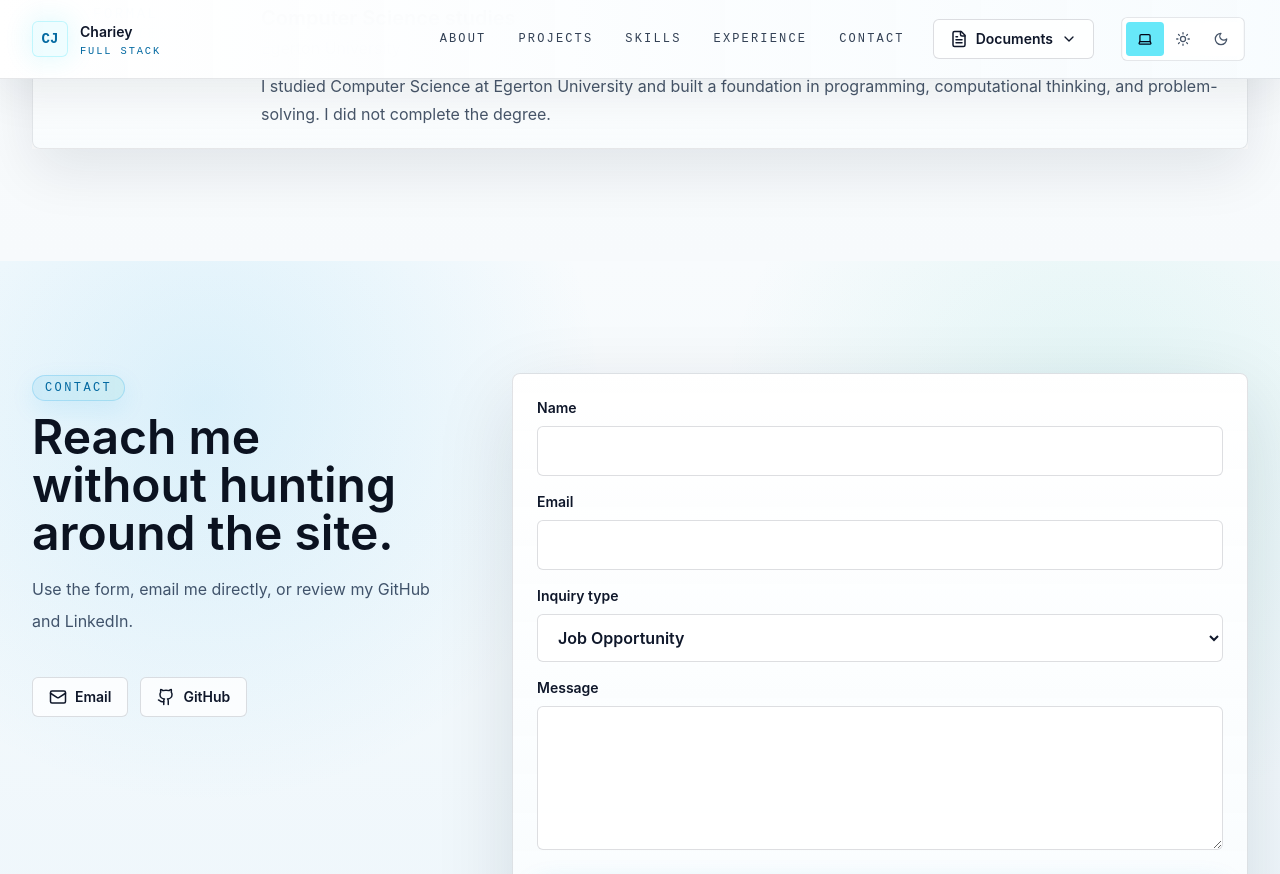
portfolio app › shows API error feedback after a failed contact submission
The image size is (1280, 874).
(page scrolled)
In the field labelled "Name": (880, 450) 537,426 -> 1223,476, type "Recruiter"
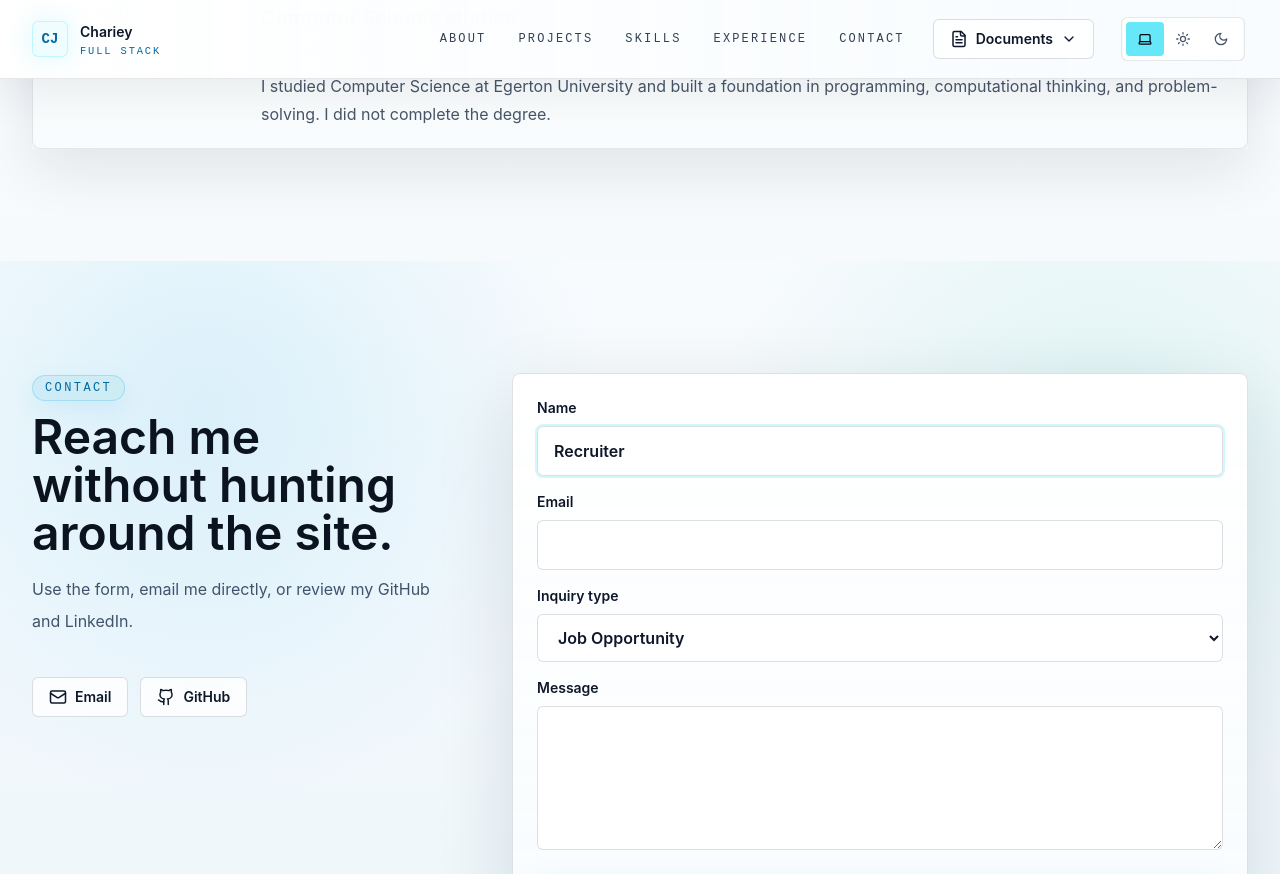
In the field labelled "Email": (880, 544) 537,520 -> 1223,570, type "recruiter@example.com"
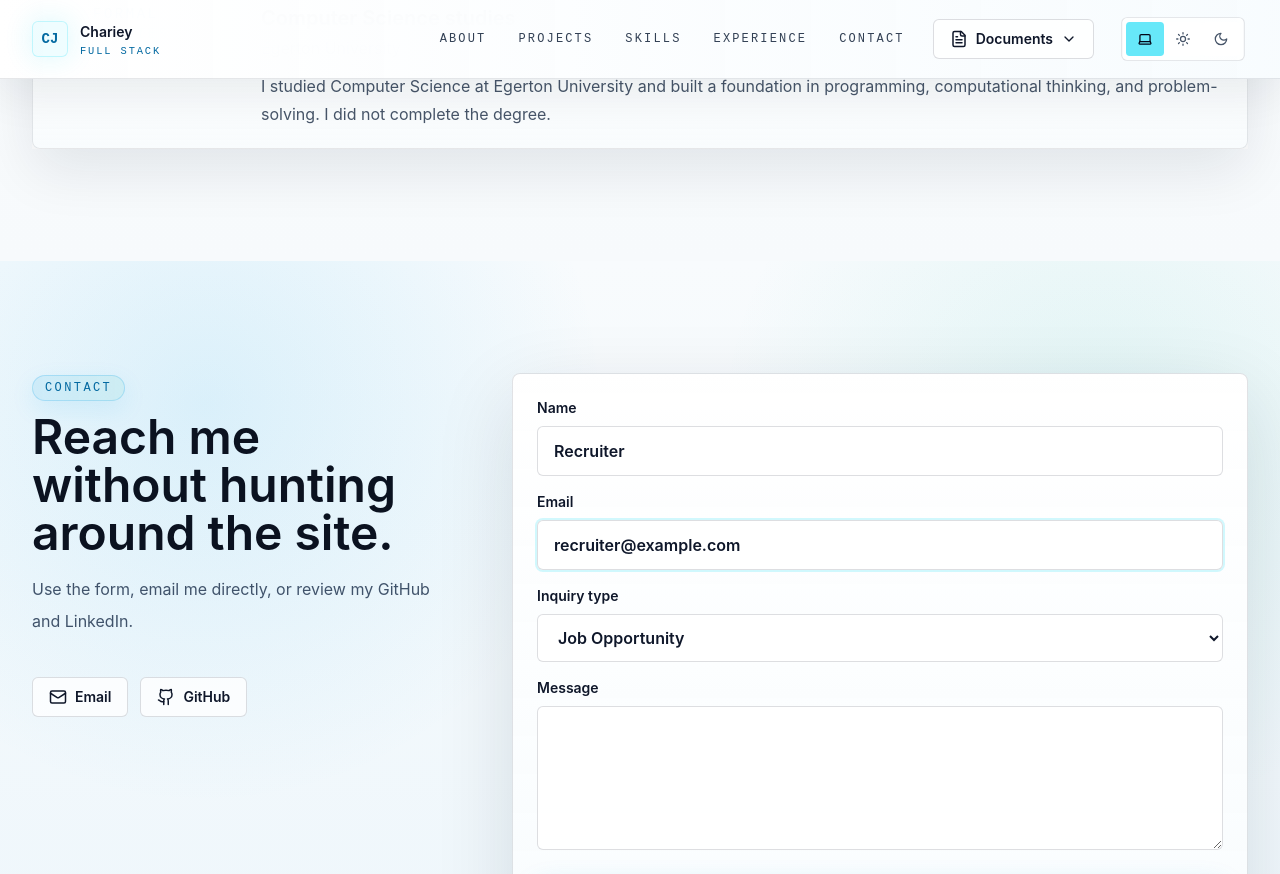
In the text box labelled "Message": (880, 778) 537,706 -> 1223,850, type "I would like to discuss a role with you."
(page scrolled)
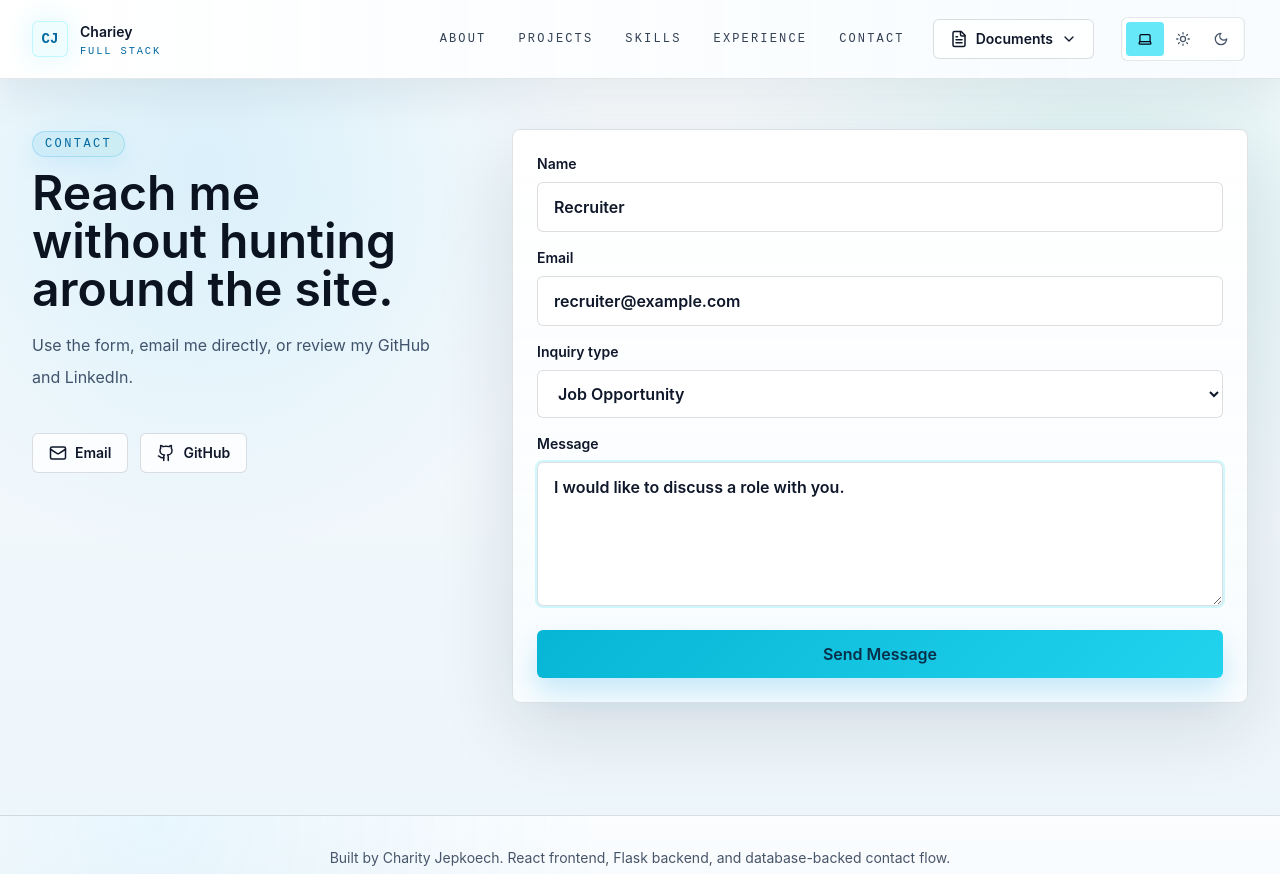
Click the button "Send Message": (880, 654) 537,630 -> 1223,678
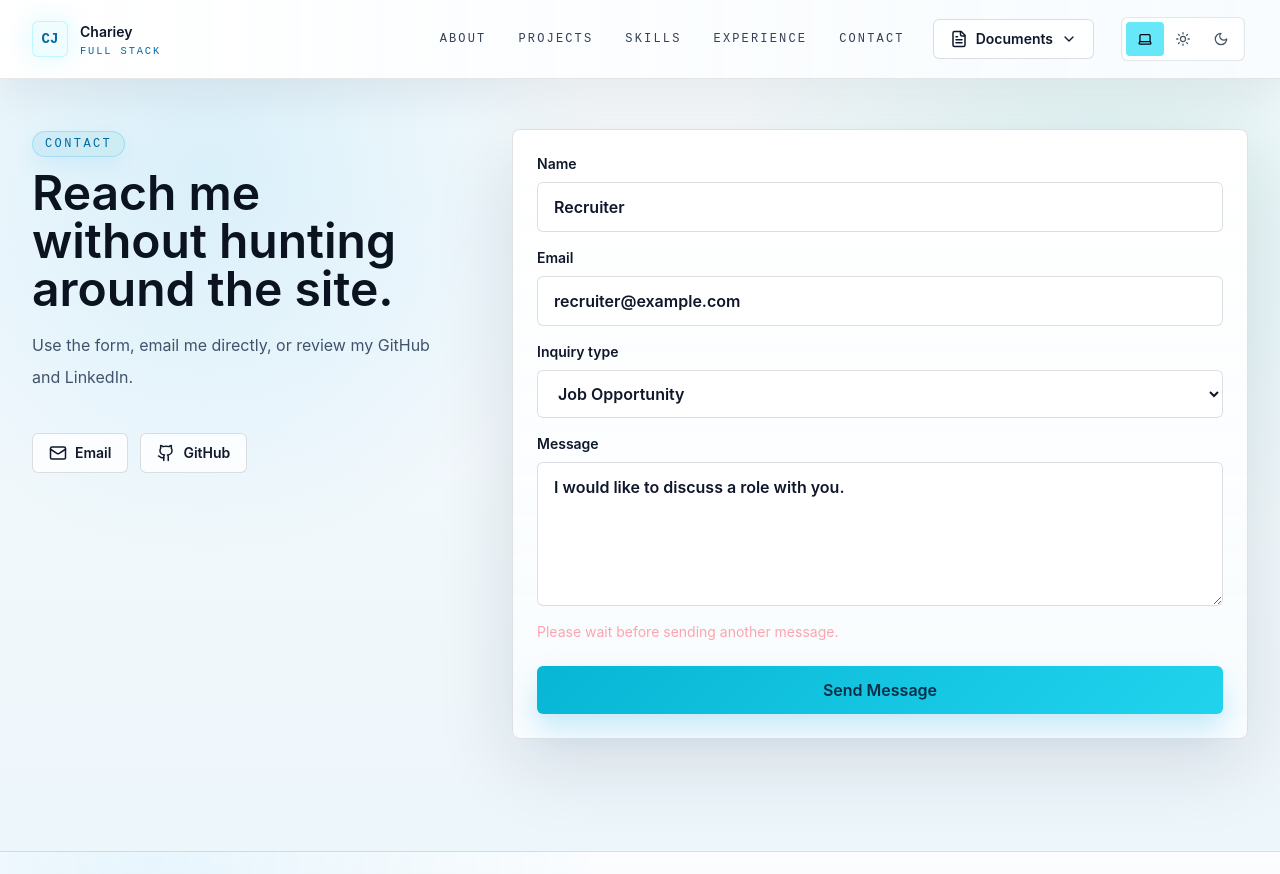
Expected: the text "Please wait before sending another message." is shown, 537,622 -> 838,640
